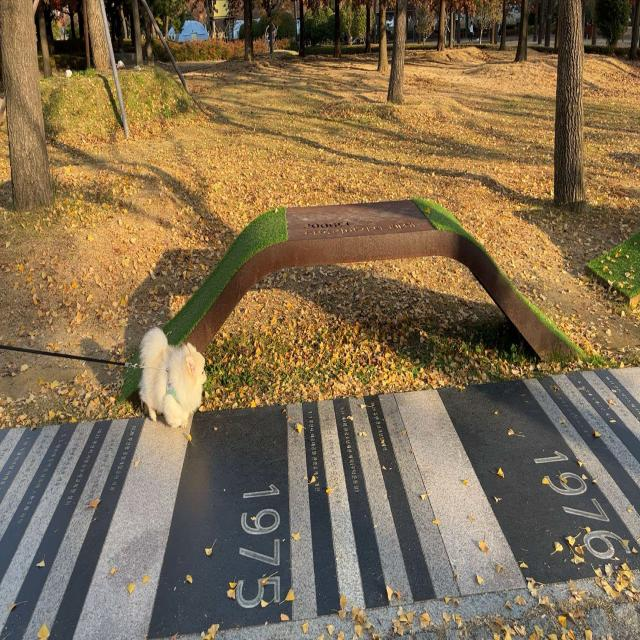Dog: (138, 324, 208, 431)
